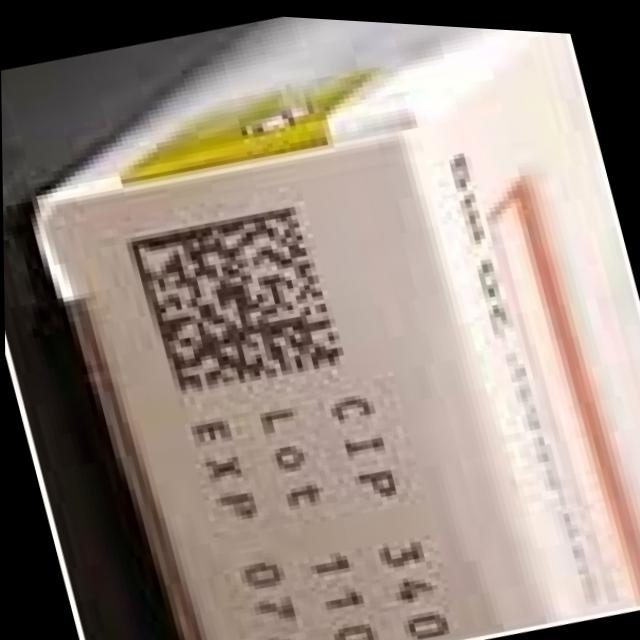datamatrix: (121, 178, 358, 413)
